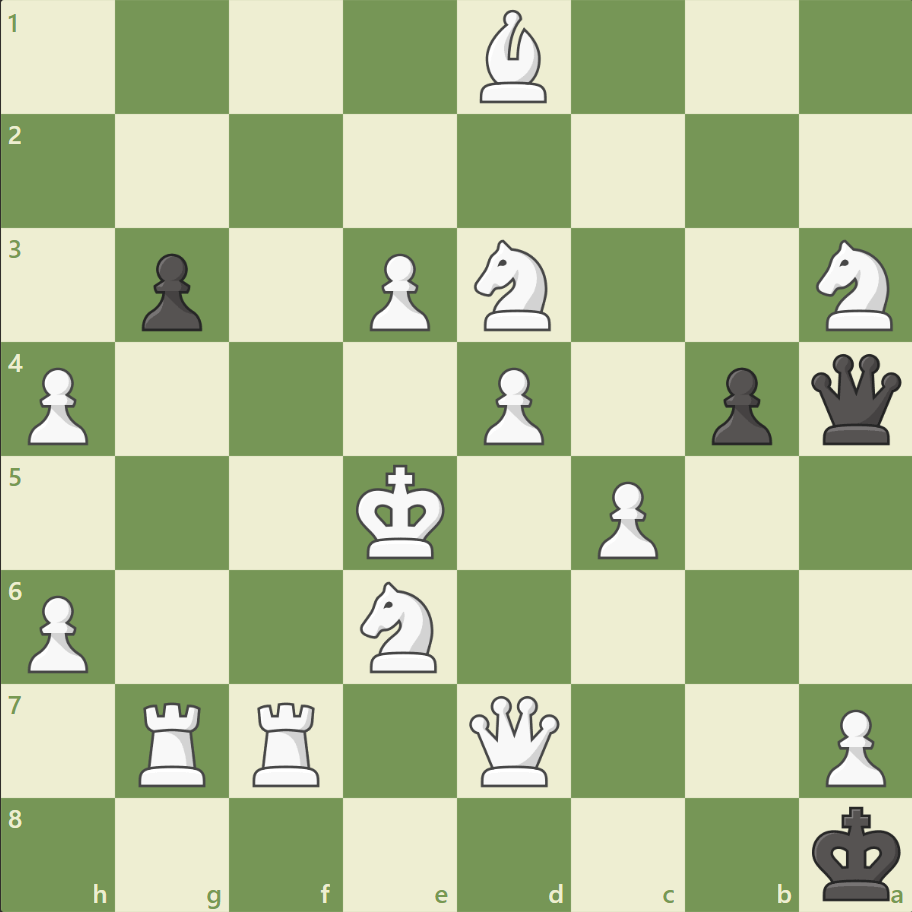B: (471, 6, 555, 109)
K: (351, 458, 451, 566)
N: (351, 575, 449, 677), (806, 234, 903, 337), (465, 234, 562, 337)
P: (20, 586, 95, 677), (474, 359, 549, 450), (20, 359, 95, 450), (815, 700, 889, 791), (588, 473, 662, 564), (361, 246, 435, 337)
Q: (464, 690, 563, 789)
R: (246, 693, 329, 790), (133, 693, 215, 790)
k: (806, 798, 906, 906)
p: (701, 359, 776, 450), (133, 246, 208, 337)
q: (805, 349, 904, 449)
